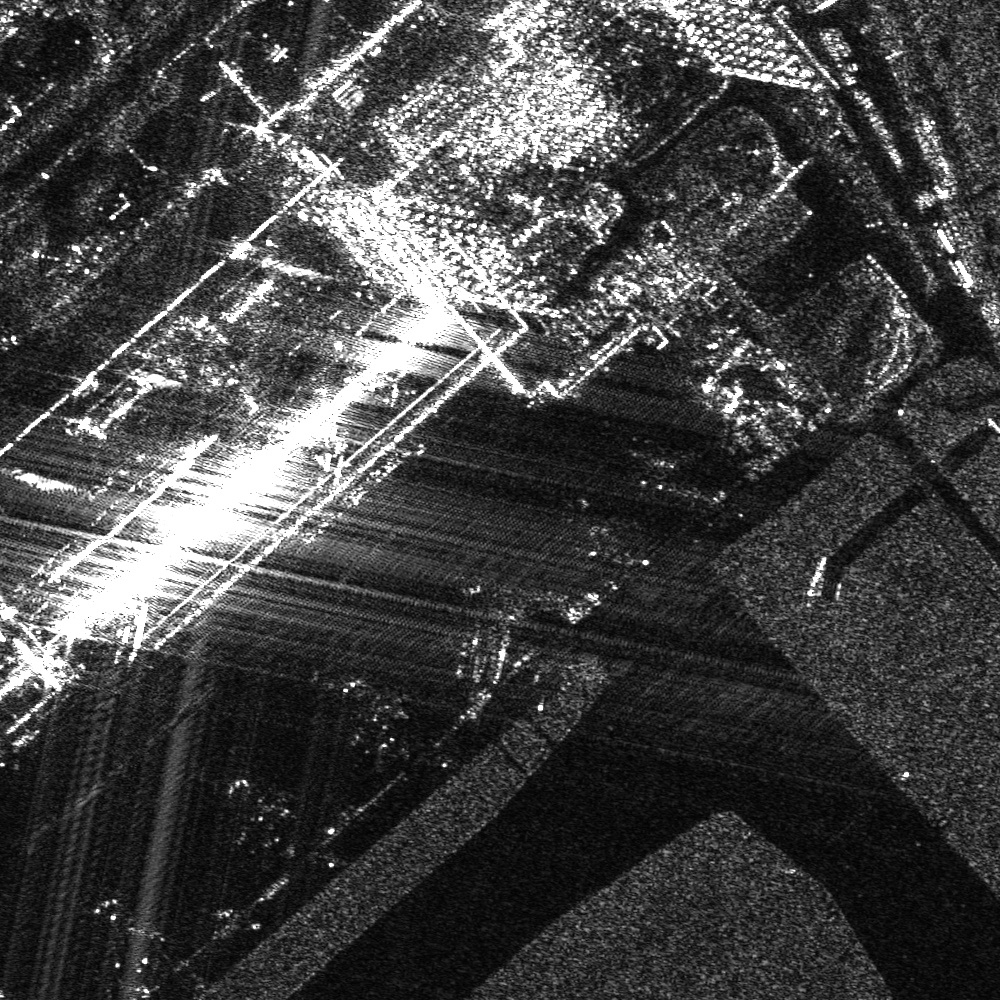Boeing737: (574, 491, 640, 571), (635, 445, 706, 506)
other: (92, 889, 180, 976), (339, 677, 412, 765), (221, 772, 297, 854)
